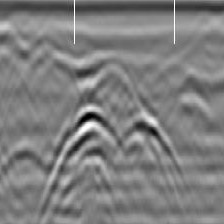Utility: (43, 103, 184, 223)
